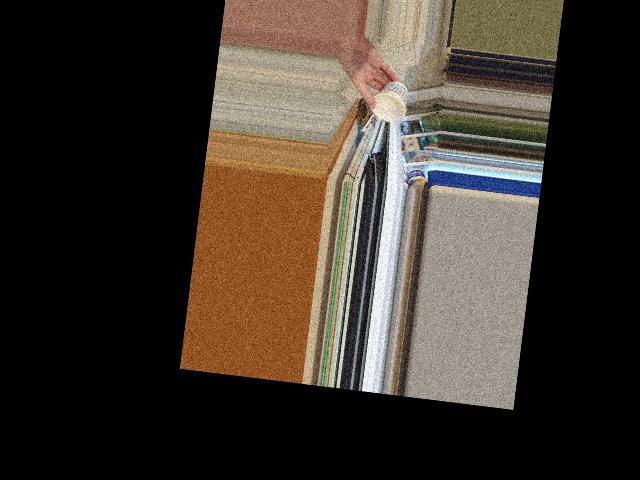cotage: (369, 80, 407, 118)
